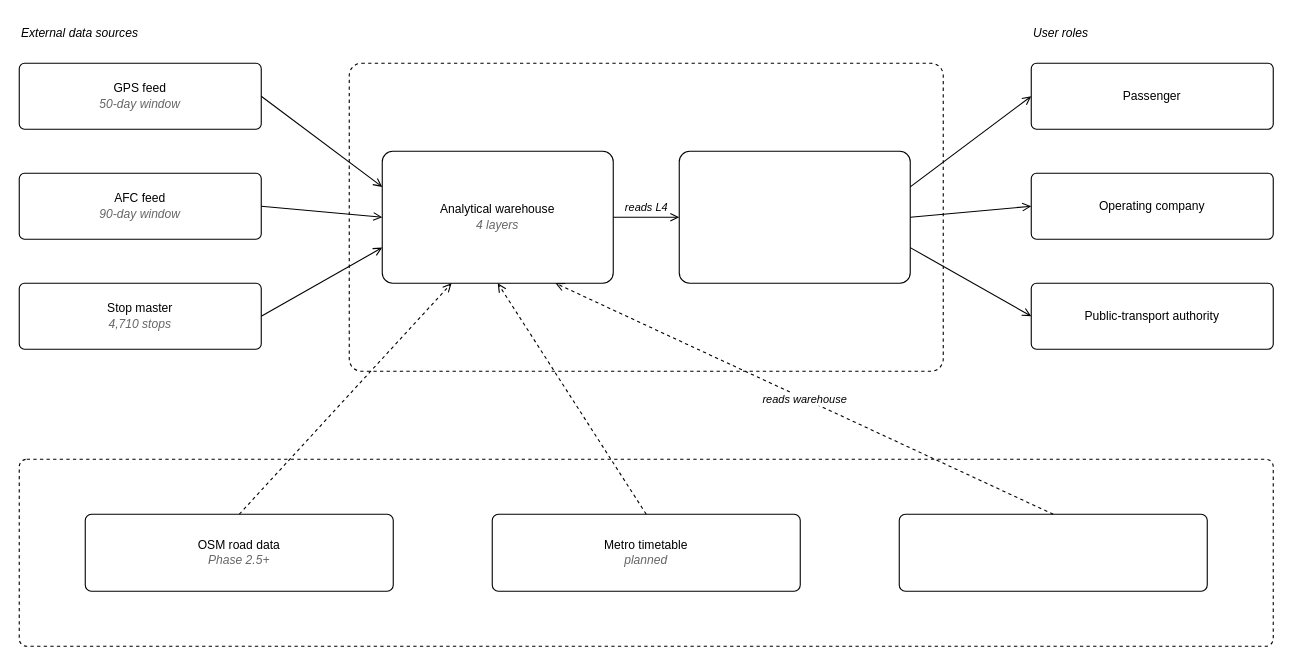
Some shapes in this 1293 by 666 pixel diagram are drawn without their labels. Each missing label, with the box of its shape:
Analytical surface themes · canvases · interaction: (678, 150, 910, 283)
Bus Analytics Platform: (348, 62, 943, 371)
Future / out of Phase 1 scope: (18, 458, 1273, 646)
Text-to-SQL external team: (898, 513, 1207, 591)
